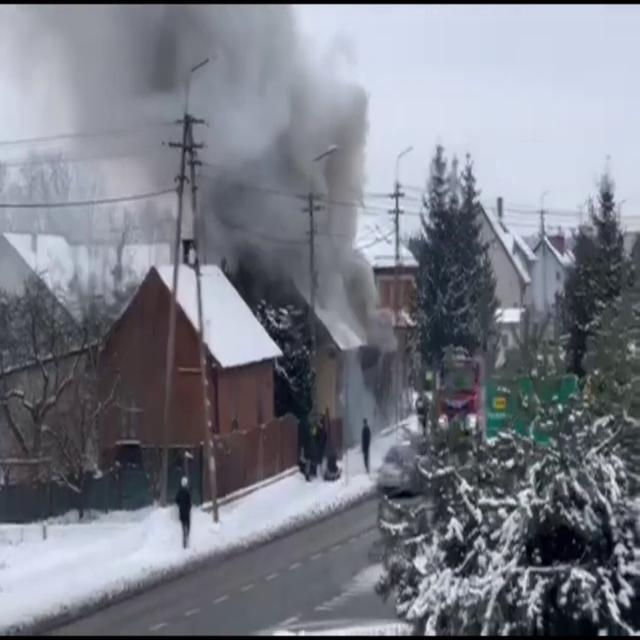Smoke: (0, 4, 392, 344)
